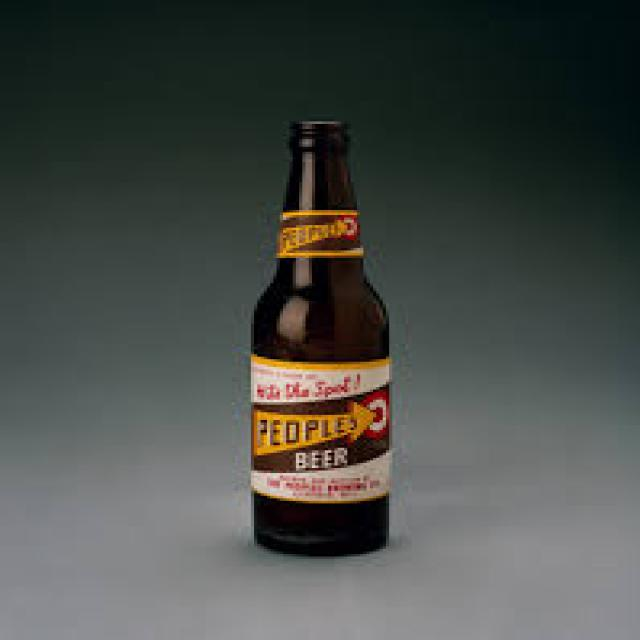glass: (244, 119, 386, 554)
